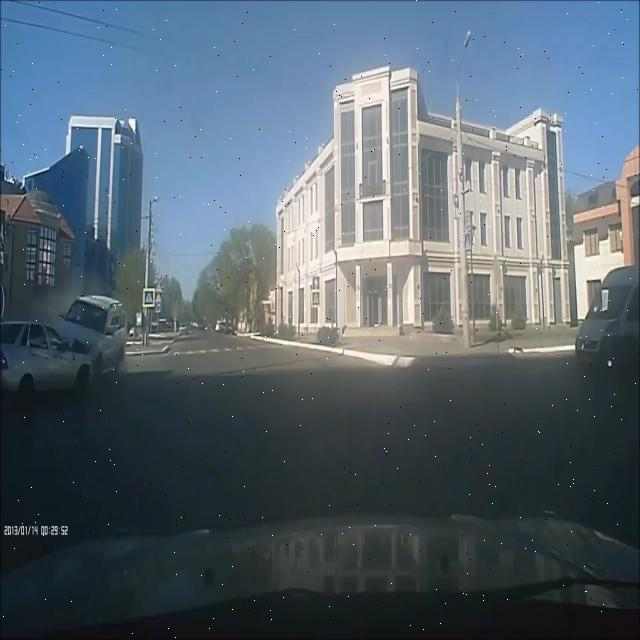moderate: (0, 287, 134, 411)
